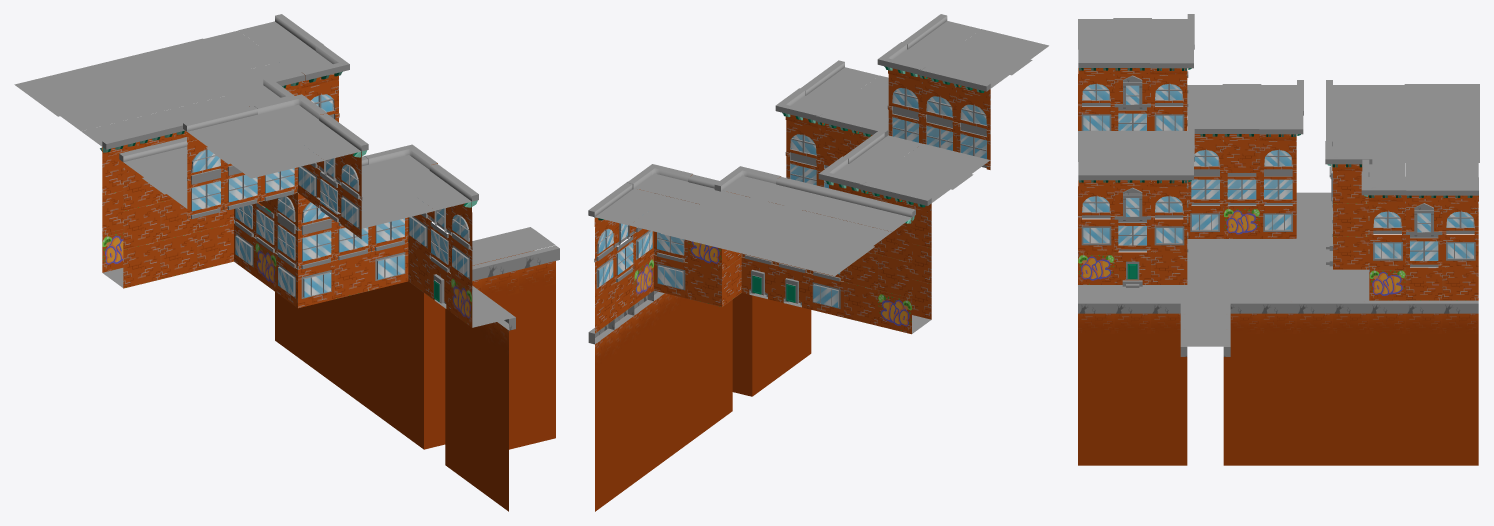
File: kamer_003.fbx
The picture shows the model from 3 angles, left to right: view 1: azimuth 30°, elevation 25°; view 2: azimuth 150°, elevation 25°; view 3: azimuth 270°, elevation 25°; orthographic projection. The views are drawn at different scales.
Parts seen in each view (by area): view 1: Plane.564, Plane.381, Plane.494, Plane.531, Plane.534, Plane.535, Plane.503, Plane.484, Plane.475, Plane.402, Plane.479, Plane.633 (+110 smaller); view 2: Plane.381, Plane.507, Plane.494, Plane.554, Plane.564, Plane.477, Plane.502, Plane.504, Plane.500, Plane.548, Plane.603, Plane.606 (+108 smaller); view 3: Plane.648, Plane.650, Plane.652, Plane.378, Plane.584, Plane.374, Plane.490, Plane.527, Plane.380, Plane.459, Plane.524, Plane.578 (+154 smaller).
Boxes of the visible parts, box(x1,y1,x2,y2) form: Plane.564: box(280, 44, 349, 88); Plane.381: box(365, 144, 437, 179); Plane.494: box(254, 94, 327, 129); Plane.531: box(160, 232, 197, 279); Plane.534: box(123, 241, 160, 288); Plane.535: box(123, 202, 160, 249); Plane.503: box(187, 172, 224, 219); Plane.484: box(334, 252, 371, 299); Plane.475: box(371, 243, 408, 290); Plane.402: box(519, 245, 559, 292); Plane.479: box(297, 222, 334, 269); Plane.633: box(519, 399, 555, 447); Plane.381: box(775, 88, 840, 128); Plane.507: box(818, 156, 883, 196); Plane.494: box(877, 42, 942, 81); Plane.554: box(714, 166, 781, 198); Plane.564: box(627, 164, 692, 196); Plane.477: box(786, 120, 820, 164); Plane.502: box(922, 82, 956, 125); Plane.504: box(956, 90, 990, 134); Plane.500: box(888, 74, 922, 117); Plane.548: box(688, 263, 721, 306); Plane.603: box(878, 290, 911, 334); Plane.606: box(878, 255, 911, 298); Plane.648: box(1223, 366, 1260, 399); Plane.650: box(1223, 399, 1260, 432); Plane.652: box(1223, 432, 1260, 465); Plane.378: box(1114, 252, 1150, 287); Plane.584: box(1406, 201, 1442, 236); Plane.374: box(1114, 186, 1150, 220); Plane.490: box(1114, 74, 1150, 108); Plane.527: box(1223, 173, 1260, 206); Plane.380: box(1078, 219, 1114, 252); Plane.459: box(1078, 300, 1114, 333); Plane.524: box(1260, 172, 1296, 206); Plane.578: box(1260, 300, 1296, 333).
Bounding box in the file's own units: 1006 × 1043 × 1103.
